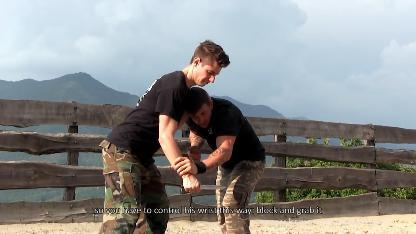knife: (178, 180, 228, 194)
